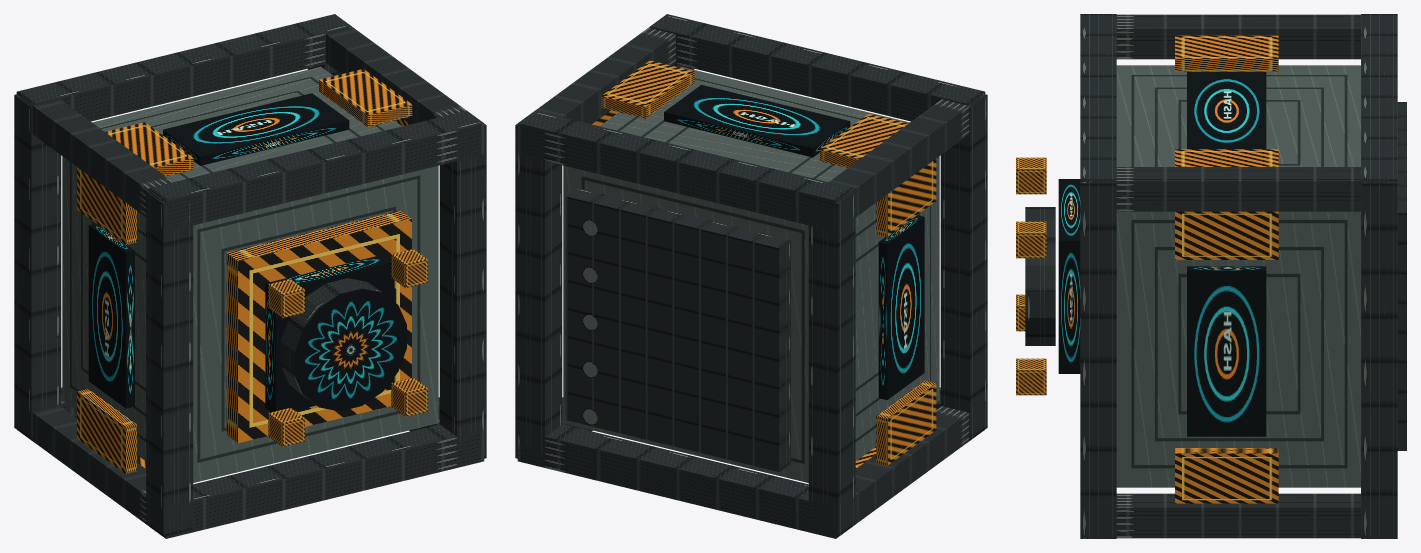
File: rustchain_hash_crate_source.obj
The picture shows the model from 3 angles, left to right: view 1: azimuth 30°, elevation 25°; view 2: azimuth 150°, elevation 25°; view 3: azimuth 270°, elevation 25°; orthographic projection. The views are drawn at different scales.
Parts seen in each view (by area): view 1: rustchain_hash_crate; view 2: rustchain_hash_crate; view 3: rustchain_hash_crate.
Part boxes in pixels (box(x1,y1,x2,y2)): rustchain_hash_crate: box(14, 14, 486, 538); rustchain_hash_crate: box(515, 14, 987, 538); rustchain_hash_crate: box(1016, 14, 1406, 538).
Bounding box in the file's own units: 1.3 × 1.3 × 1.28.
4 materials, 4 textured.
